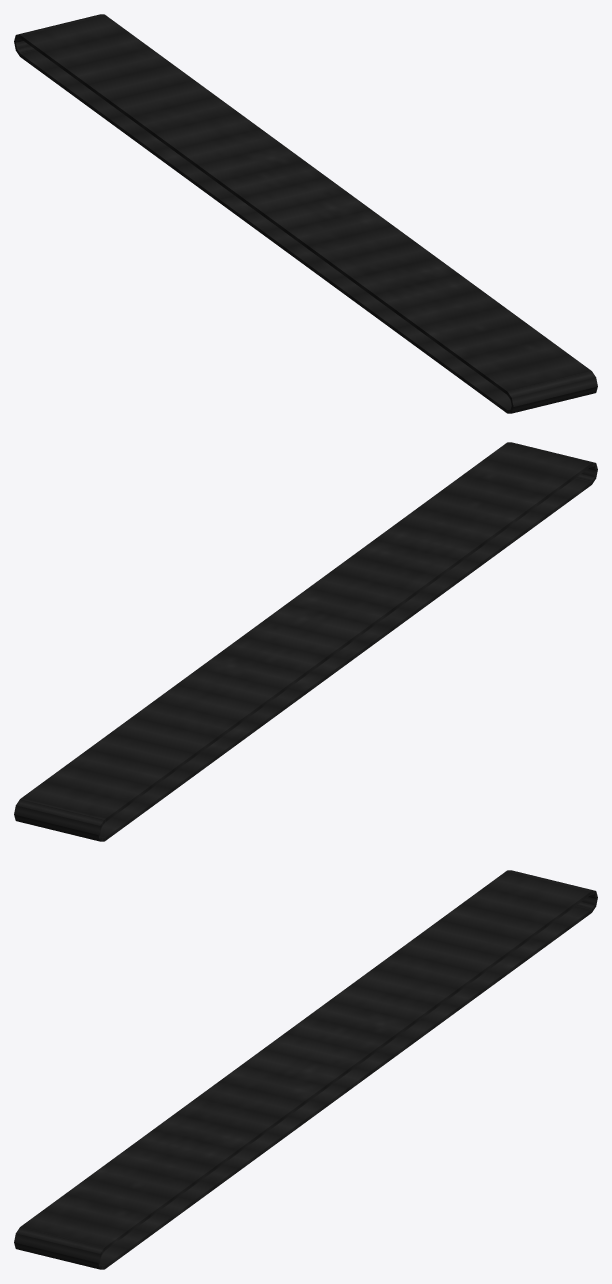
The model's file is Conveyor.fbx.
3 views of the same model, one above another, from view 1: azimuth 30°, elevation 25°; view 2: azimuth 150°, elevation 25°; view 3: azimuth 330°, elevation 25° (orthographic).
Parts seen in each view (by area): view 1: Conveyor-Belt; view 2: Conveyor-Belt; view 3: Conveyor-Belt.
Part boxes in pixels (left/top/right/bottom): Conveyor-Belt: left=14, top=14, right=597, bottom=413; Conveyor-Belt: left=14, top=442, right=597, bottom=841; Conveyor-Belt: left=14, top=870, right=597, bottom=1269.
Bounding box in the file's own units: 0.2 × 0.05 × 2.05.
Materials: 1 (1 with a texture image).
